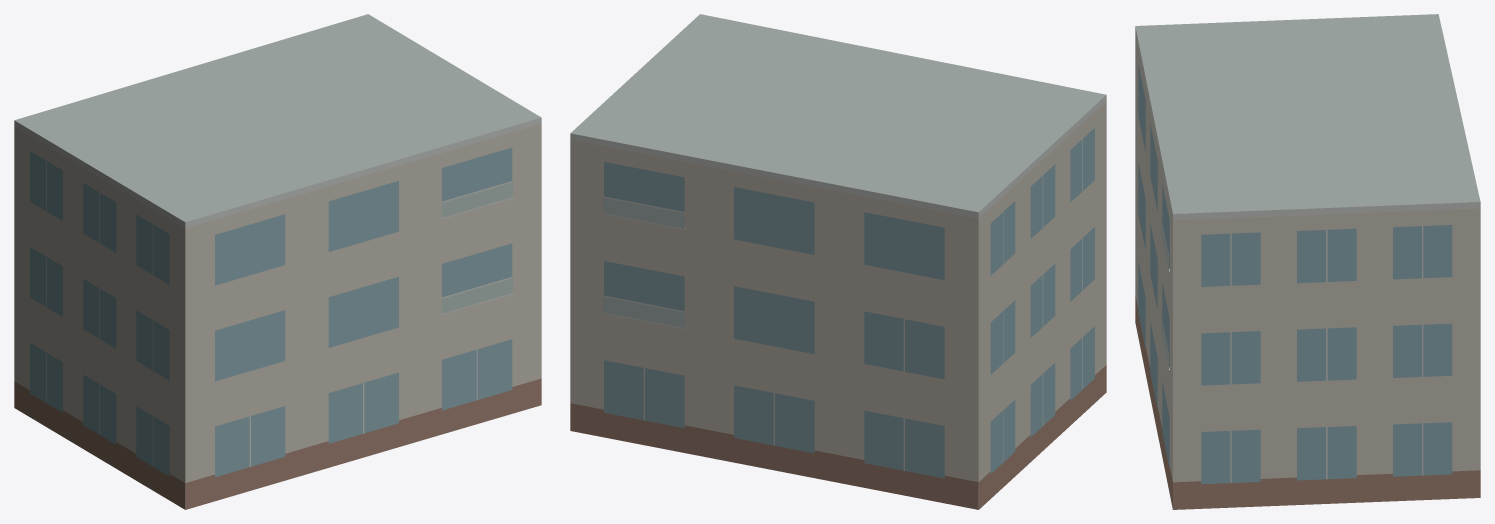
File: survey-upis-32671948.glb
3 views of the same model, side by side, from view 1: azimuth 30°, elevation 25°; view 2: azimuth 150°, elevation 25°; view 3: azimuth 270°, elevation 25° (orthographic). The views are drawn at different scales.
Parts seen in each view (by area): view 1: survey-upis-32671948.tmp; view 2: survey-upis-32671948.tmp; view 3: survey-upis-32671948.tmp.
Part boxes in pixels (left/top/right/bottom): survey-upis-32671948.tmp: left=14, top=14, right=541, bottom=509; survey-upis-32671948.tmp: left=570, top=14, right=1106, bottom=509; survey-upis-32671948.tmp: left=1135, top=14, right=1480, bottom=509.
Size of the model in its own units: 16.54 by 11.4 by 12.07.
